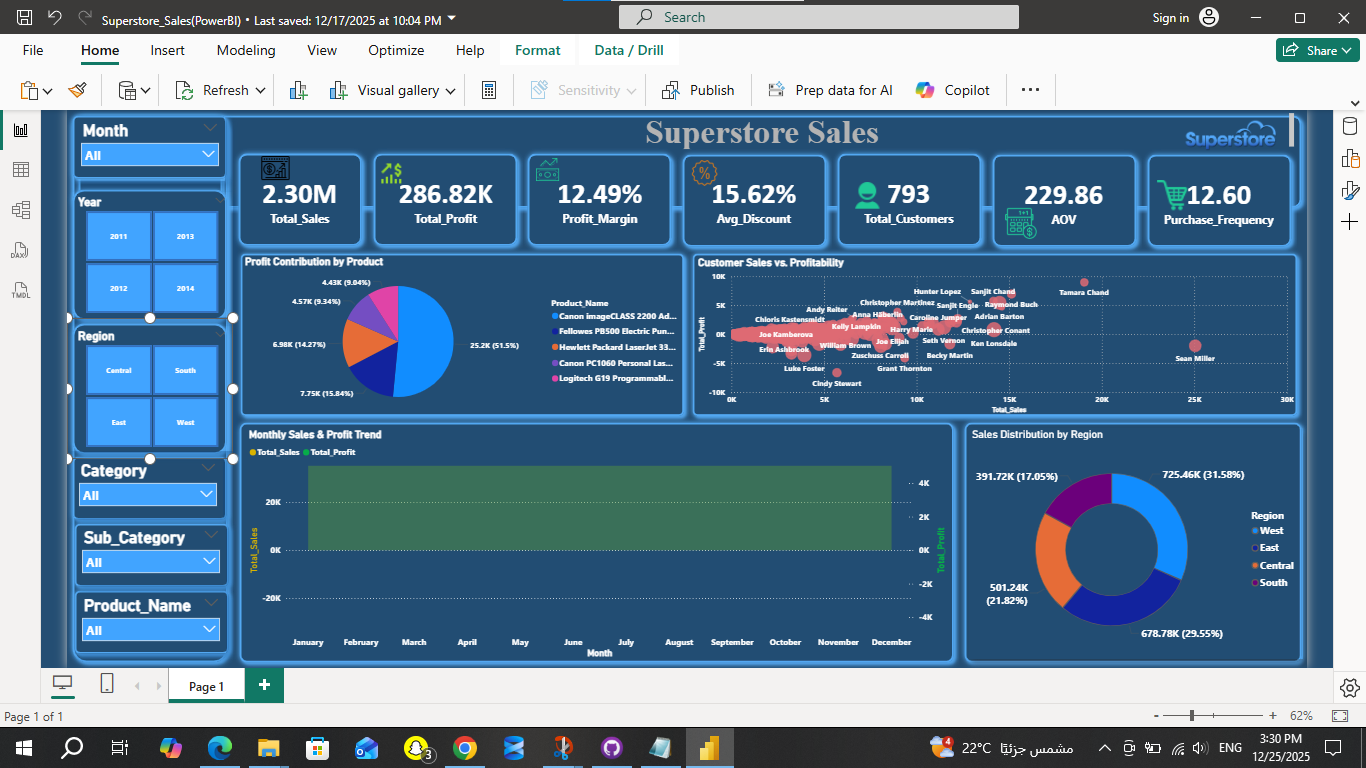

This screenshot's page, from the dashboard's own definition file:
{"tool":"powerbi","page":{"name":"Page 1","canvas":[2000,900],"ordinal":0},"visuals":[{"type":"shape","box":[0,0,2000,166.7],"z":0},{"type":"shape","box":[0,0,268.3,900],"z":1000},{"type":"shape","box":[268.3,61.2,216.7,166.7],"z":2000,"group":"g5"},{"type":"group","id":"g1","title":"Group 1","box":[1733.4,62.9,250,166.7],"z":2000,"group":"g18"},{"type":"shape","box":[484.7,60.7,250,166.7],"z":3000,"group":"g4"},{"type":"group","id":"g2","title":"Group 2","box":[1483.6,62.5,250,166.7],"z":3000,"group":"g19"},{"type":"shape","box":[10,10,250,166.7],"z":4000},{"type":"shape","box":[734.4,61.6,250,166.7],"z":4000,"group":"g3"},{"type":"shape","box":[984.2,63.3,250,166.7],"z":4000,"group":"g16"},{"type":"group","id":"g3","title":"Group 4","box":[734.4,61.6,250,166.7],"z":5000,"group":"g22"},{"type":"shape","box":[1233.9,62,250,166.7],"z":5000,"group":"g17"},{"type":"group","id":"g4","title":"Group 5","box":[484.7,60.7,250,166.7],"z":6000,"group":"g23"},{"type":"shape","box":[1483.6,62.5,250,166.7],"z":6000,"group":"g2"},{"type":"group","id":"g5","title":"Group 6","box":[268.3,61.2,216.7,166.7],"z":7000,"group":"g21"},{"type":"shape","box":[1733.4,62.9,250,166.7],"z":7000,"group":"g1"},{"type":"card","fields":{"Values":["All_Measure.Total_Sales"]},"box":[281.3,74.5,189.2,138.3],"z":8000,"group":"g5"},{"type":"group","id":"g6","title":"Group 7","box":[0,120,268.3,228.3],"z":8000},{"type":"shape","box":[0,120,266.7,228.3],"z":8000,"group":"g6"},{"type":"shape","box":[0,335,266.7,228.3],"z":8000,"group":"g8"},{"type":"card","fields":{"Values":["All_Measure.Total_Profit"]},"box":[500,74,218.3,138.3],"z":8001,"group":"g4"},{"type":"card","fields":{"Values":["All_Measure.Profit_Margin"]},"box":[750.1,74.9,218.3,138.3],"z":8002,"group":"g3"},{"type":"card","fields":{"Values":["All_Measure.Avg_Discount"]},"box":[999.2,74.9,218.3,138.3],"z":8002,"group":"g16"},{"type":"card","fields":{"Values":["All_Measure.Total_Customers"]},"box":[1248.2,75.3,218.3,138.3],"z":8003,"group":"g17"},{"type":"card","fields":{"Values":["All_Measure.AOV"]},"box":[1498.3,75.8,218.3,138.3],"z":8004,"group":"g2"},{"type":"card","fields":{"Values":["All_Measure.Purchase_Frequency"]},"box":[1748.4,76.1,218.3,138.3],"z":8005,"group":"g1"},{"type":"slicer","fields":{"Values":["FactSales.Order_Date.Variation.Date Hierarchy.Year"]},"box":[5,133.3,263.3,201.7],"z":9000,"group":"g6"},{"type":"slicer","fields":{"Values":["Dim_Geography.Region"]},"box":[5,348.3,263.3,201.7],"z":9000,"group":"g8"},{"type":"group","id":"g7","title":"Group 9","box":[0,550,266.7,120],"z":9000},{"type":"shape","box":[3.3,658.3,266.7,120],"z":9000,"group":"g10"},{"type":"group","id":"g8","title":"Group 10","box":[0,335,268.3,228.3],"z":10000},{"type":"shape","box":[0,0,266.7,120],"z":11000,"group":"g11"},{"type":"group","id":"g9","title":"Group 8","box":[3.3,766.7,266.7,120],"z":11000},{"type":"group","id":"g10","title":"Group 11","box":[3.3,658.3,266.7,120],"z":12000},{"type":"group","id":"g11","title":"Group 12","box":[0,0,266.7,120],"z":13000},{"type":"slicer","fields":{"Values":["FactSales.Order_Date.Variation.Date Hierarchy.Month"]},"box":[13.3,11.7,241.7,103.3],"z":13000,"group":"g11"},{"type":"shape","box":[0,550,266.7,120],"z":13000,"group":"g7"},{"type":"group","id":"g12","title":"Group 13","box":[1000,223.3,993.3,280],"z":14000},{"type":"shape","box":[270,495,1170,405],"z":14000,"group":"g14"},{"type":"slicer","fields":{"Values":["Dim_Product.Category"]},"box":[10,560,241.7,98.3],"z":14000,"group":"g7"},{"type":"shape","box":[3.3,766.7,266.7,120],"z":14000,"group":"g9"},{"type":"group","id":"g13","title":"Group 14","box":[1438.3,495,561.7,405],"z":15000},{"type":"areaChart","title":"Monthly Sales & Profit Trend","fields":{"Category":["FactSales.Order_Date.Variation.Date Hierarchy.Month"],"Y":["All_Measure.Total_Sales"],"Y2":["All_Measure.Total_Profit"]},"box":[290,513.3,1133.3,376.7],"z":15000,"group":"g14"},{"type":"slicer","fields":{"Values":["Dim_Product.Sub_Category"]},"box":[15,668.3,241.7,98.3],"z":15000,"group":"g10"},{"type":"group","id":"g14","title":"Group 15","box":[270,495,1170,405],"z":16000},{"type":"shape","box":[1438.3,495,561.7,405],"z":16000,"group":"g13"},{"type":"slicer","fields":{"Values":["Dim_Product.Product_Name"]},"box":[15,778.4,241.7,98.3],"z":16000,"group":"g9"},{"type":"group","id":"g15","title":"Group 16","box":[271.7,223.3,733.3,280],"z":17000},{"type":"donutChart","title":"Sales Distribution by Region","fields":{"Category":["Dim_Geography.Region"],"Y":["All_Measure.Total_Sales"]},"box":[1455,513.3,538.3,373.3],"z":17000,"group":"g13"},{"type":"textbox","box":[266,0,1718,68],"z":18000},{"type":"shape","box":[271.7,223.3,733.3,280],"z":18000,"group":"g15"},{"type":"group","id":"g16","title":"Group 4","box":[984.2,63.3,250,166.7],"z":19000,"group":"g24"},{"type":"pieChart","title":"Profit Contribution by Product","fields":{"Category":["Dim_Product.Product_Name"],"Y":["All_Measure.Total_Profit"]},"box":[283.4,235,716.7,260],"z":19000,"group":"g15"},{"type":"group","id":"g17","title":"Group 3","box":[1233.9,62,250,166.7],"z":20000,"group":"g20"},{"type":"shape","box":[1000,223.3,993.3,280],"z":20000,"group":"g12"},{"type":"image","box":[1789.4,10.8,176.4,57.6],"z":21000},{"type":"scatterChart","title":"Customer Sales vs. Profitability","fields":{"X":["All_Measure.Total_Sales"],"Y":["All_Measure.Total_Profit"],"Category":["Dim_Customer.Customer_Name"],"Size":["Sum(FactSales.Discount)"]},"box":[1012.4,235.7,970.9,258.7],"z":21000,"group":"g12"},{"type":"image","box":[282.6,68.4,108,52.2],"z":22000,"group":"g21"},{"type":"image","box":[500.4,75.6,43.2,52.2],"z":22001,"group":"g23"},{"type":"image","box":[738,72,75.6,50.4],"z":22002,"group":"g22"},{"type":"image","box":[984.7,79.2,88.2,45],"z":22003,"group":"g24"},{"type":"image","box":[1269.1,95.4,43.2,84.6],"z":22004,"group":"g20"},{"type":"image","box":[1508.5,133.2,55.8,91.8],"z":22005,"group":"g19"},{"type":"image","box":[1715.6,113.4,133.2,48.6],"z":22006,"group":"g18"},{"type":"group","id":"g18","title":"Group 17","box":[1715.6,62.9,267.8,166.7],"z":22007},{"type":"group","id":"g19","title":"Group 18","box":[1483.6,62.5,250,166.7],"z":22008},{"type":"group","id":"g20","title":"Group 19","box":[1233.9,62,250,166.7],"z":22009},{"type":"group","id":"g21","title":"Group 23","box":[268.3,61.2,216.7,166.7],"z":22013},{"type":"group","id":"g22","title":"Group 21","box":[734.4,61.6,250,166.7],"z":22014},{"type":"group","id":"g23","title":"Group 22","box":[484.7,60.7,250,166.7],"z":22015},{"type":"group","id":"g24","title":"Group 20","box":[984.2,63.3,250,166.7],"z":22016}]}

Visuals, with their boxes on the page's 2000x900 design canvas (x1, y1, x2, y2). These are canvas units, not pixel positions in the 1366x768 screenshot, which may show the page scaled, cropped or inside an application window:
shape: 0/0/2000/167
shape: 0/0/268/900
shape: 268/61/485/228
"Group 1" group: 1733/63/1983/230
shape: 485/61/735/227
"Group 2" group: 1484/62/1734/229
shape: 10/10/260/177
shape: 734/62/984/228
shape: 984/63/1234/230
"Group 4" group: 734/62/984/228
shape: 1234/62/1484/229
"Group 5" group: 485/61/735/227
shape: 1484/62/1734/229
"Group 6" group: 268/61/485/228
shape: 1733/63/1983/230
card - All_Measure.Total_Sales: 281/74/470/213
"Group 7" group: 0/120/268/348
shape: 0/120/267/348
shape: 0/335/267/563
card - All_Measure.Total_Profit: 500/74/718/212
card - All_Measure.Profit_Margin: 750/75/968/213
card - All_Measure.Avg_Discount: 999/75/1218/213
card - All_Measure.Total_Customers: 1248/75/1466/214
card - All_Measure.AOV: 1498/76/1717/214
card - All_Measure.Purchase_Frequency: 1748/76/1967/214
slicer - FactSales.Order_Date.Variation.Date Hierarchy.Year: 5/133/268/335
slicer - Dim_Geography.Region: 5/348/268/550
"Group 9" group: 0/550/267/670
shape: 3/658/270/778
"Group 10" group: 0/335/268/563
shape: 0/0/267/120
"Group 8" group: 3/767/270/887
"Group 11" group: 3/658/270/778
"Group 12" group: 0/0/267/120
slicer - FactSales.Order_Date.Variation.Date Hierarchy.Month: 13/12/255/115
shape: 0/550/267/670
"Group 13" group: 1000/223/1993/503
shape: 270/495/1440/900
slicer - Dim_Product.Category: 10/560/252/658
shape: 3/767/270/887
"Group 14" group: 1438/495/2000/900
"Monthly Sales & Profit Trend" areaChart: 290/513/1423/890
slicer - Dim_Product.Sub_Category: 15/668/257/767
"Group 15" group: 270/495/1440/900
shape: 1438/495/2000/900
slicer - Dim_Product.Product_Name: 15/778/257/877
"Group 16" group: 272/223/1005/503
"Sales Distribution by Region" donutChart: 1455/513/1993/887
textbox: 266/0/1984/68
shape: 272/223/1005/503
"Group 4" group: 984/63/1234/230
"Profit Contribution by Product" pieChart: 283/235/1000/495
"Group 3" group: 1234/62/1484/229
shape: 1000/223/1993/503
image: 1789/11/1966/68
"Customer Sales vs. Profitability" scatterChart: 1012/236/1983/494
image: 283/68/391/121
image: 500/76/544/128
image: 738/72/814/122
image: 985/79/1073/124
image: 1269/95/1312/180
image: 1508/133/1564/225
image: 1716/113/1849/162
"Group 17" group: 1716/63/1983/230
"Group 18" group: 1484/62/1734/229
"Group 19" group: 1234/62/1484/229
"Group 23" group: 268/61/485/228
"Group 21" group: 734/62/984/228
"Group 22" group: 485/61/735/227
"Group 20" group: 984/63/1234/230
